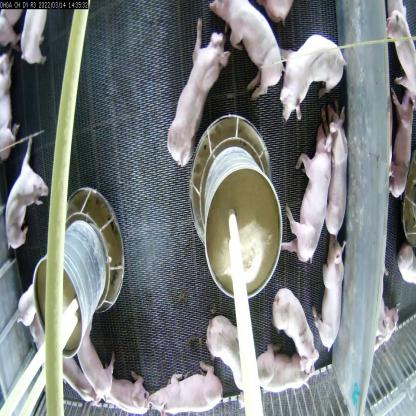Pig: (168, 19, 232, 177), (209, 1, 287, 104), (275, 32, 349, 125), (200, 302, 262, 407), (286, 121, 330, 263), (2, 136, 49, 256), (144, 348, 220, 415), (268, 284, 321, 380), (307, 242, 354, 348), (376, 1, 416, 95), (331, 124, 360, 242), (70, 335, 111, 412), (253, 352, 306, 410), (92, 363, 147, 416)
